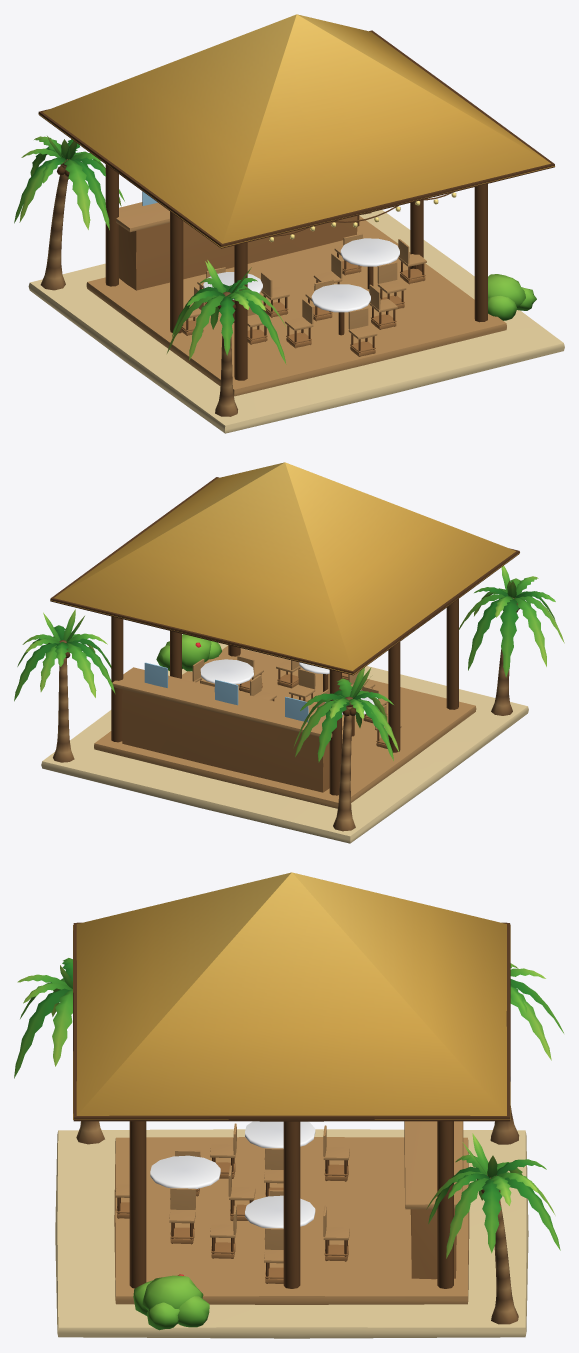
Rendered from Restaurant.obj.
3 renders of one model, top to bottom at view 1: azimuth 30°, elevation 25°; view 2: azimuth 150°, elevation 25°; view 3: azimuth 270°, elevation 25°, orthographic. The views are drawn at different scales.
Visible parts, largest first — view 1: Restaurant; view 2: Restaurant; view 3: Restaurant.
Boxes of the visible parts, x1,y1,x2,y2 form: Restaurant: (14, 14, 564, 433); Restaurant: (14, 462, 564, 843); Restaurant: (14, 872, 563, 1338).
Size of the model in its own units: 4.9 by 3.44 by 4.66.
Materials: 1 (1 with a texture image).
